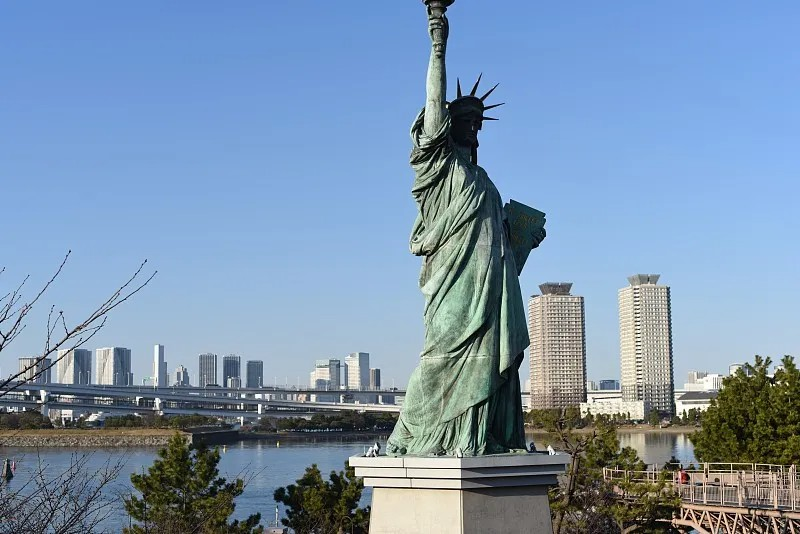SL: (348, 1, 573, 534)
